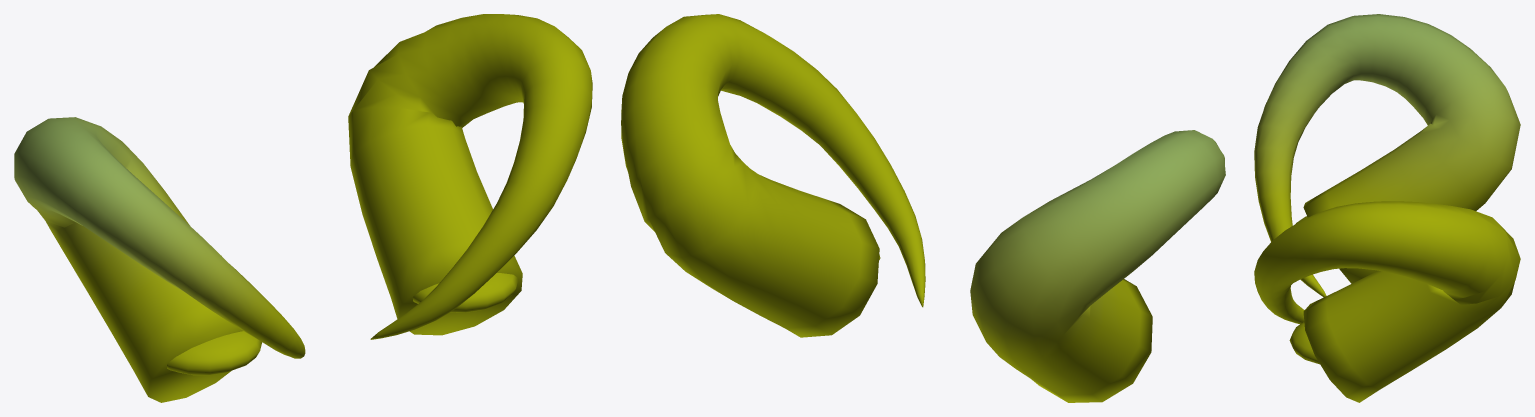
Rendered from GXR_HORNS_03_RAM.glb.
The picture shows the model from 3 angles, left to right: view 1: azimuth 30°, elevation 25°; view 2: azimuth 150°, elevation 25°; view 3: azimuth 270°, elevation 25°; orthographic projection. The views are drawn at different scales.
Parts seen in each view (by area): view 1: Mesh_Horn_L.002, Mesh_Horn_R.002, Mesh_Keratin_Seat_R.002, Mesh_Keratin_Seat_L.002; view 2: Mesh_Horn_L.002, Mesh_Horn_R.002; view 3: Mesh_Horn_L.002, Mesh_Horn_R.002, Mesh_Keratin_Seat_L.002.
Boxes of the visible parts, x1,y1,x2,y2 form: Mesh_Horn_L.002: [348, 14, 592, 339]; Mesh_Horn_R.002: [14, 117, 305, 402]; Mesh_Keratin_Seat_R.002: [167, 331, 261, 375]; Mesh_Keratin_Seat_L.002: [412, 273, 518, 312]; Mesh_Horn_L.002: [621, 14, 925, 337]; Mesh_Horn_R.002: [970, 130, 1225, 402]; Mesh_Horn_L.002: [1254, 201, 1520, 402]; Mesh_Horn_R.002: [1254, 14, 1520, 297]; Mesh_Keratin_Seat_L.002: [1289, 322, 1319, 364].
Bounding box in the file's own units: 0.5331 × 0.2665 × 0.277.
